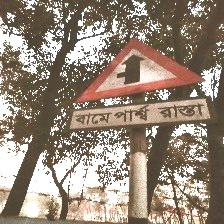Side-road-left: (69, 37, 210, 133)
